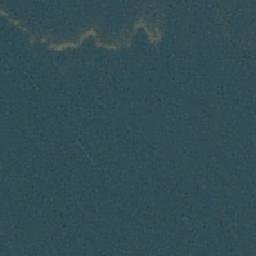debris: (1, 12, 22, 25), (49, 42, 82, 50), (94, 40, 120, 48), (28, 35, 48, 44), (81, 29, 97, 39), (151, 29, 161, 45), (127, 26, 136, 43), (139, 22, 149, 35)
